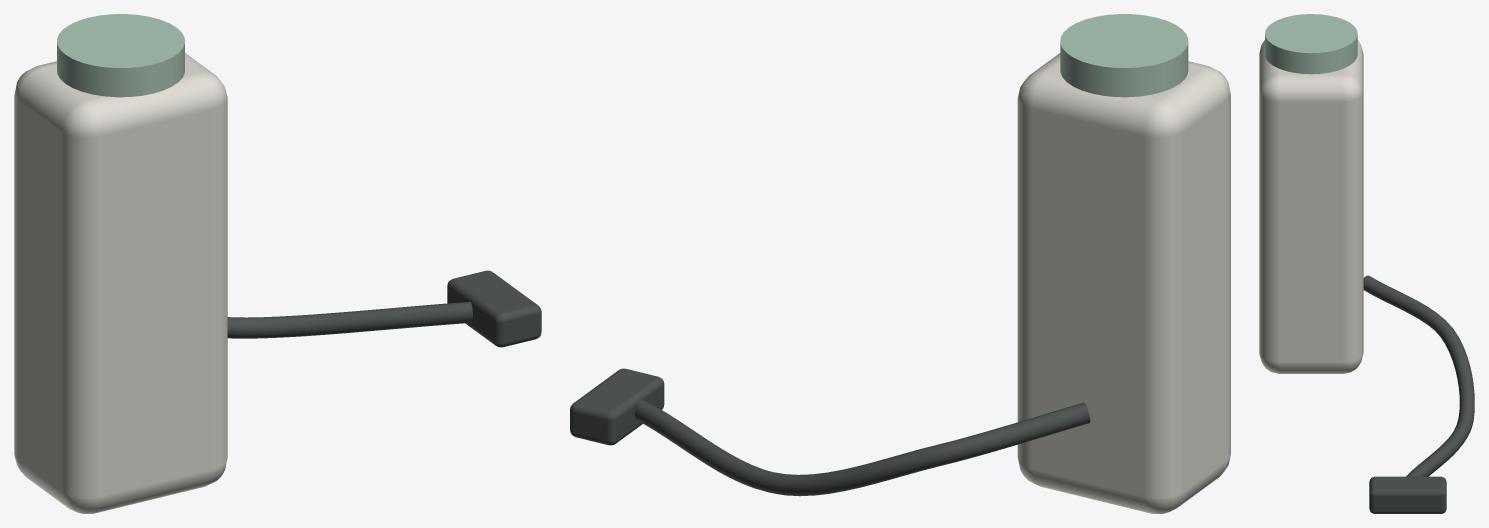
File: hearing-aid-and-audiology-clinic-patient-response-butt-8bedb62f__31724.glb
3 renders of one model, left to right at view 1: azimuth 30°, elevation 25°; view 2: azimuth 150°, elevation 25°; view 3: azimuth 270°, elevation 25°, orthographic. The views are drawn at different scales.
Parts seen in each view (by area): view 1: patient-response-button; view 2: patient-response-button; view 3: patient-response-button.
Part boxes in pixels (bbox=[...]): patient-response-button: bbox=[14, 14, 541, 513]; patient-response-button: bbox=[570, 14, 1230, 513]; patient-response-button: bbox=[1259, 14, 1474, 513].
Size of the model in its own units: 0.1175 by 0.091 by 0.0558.
